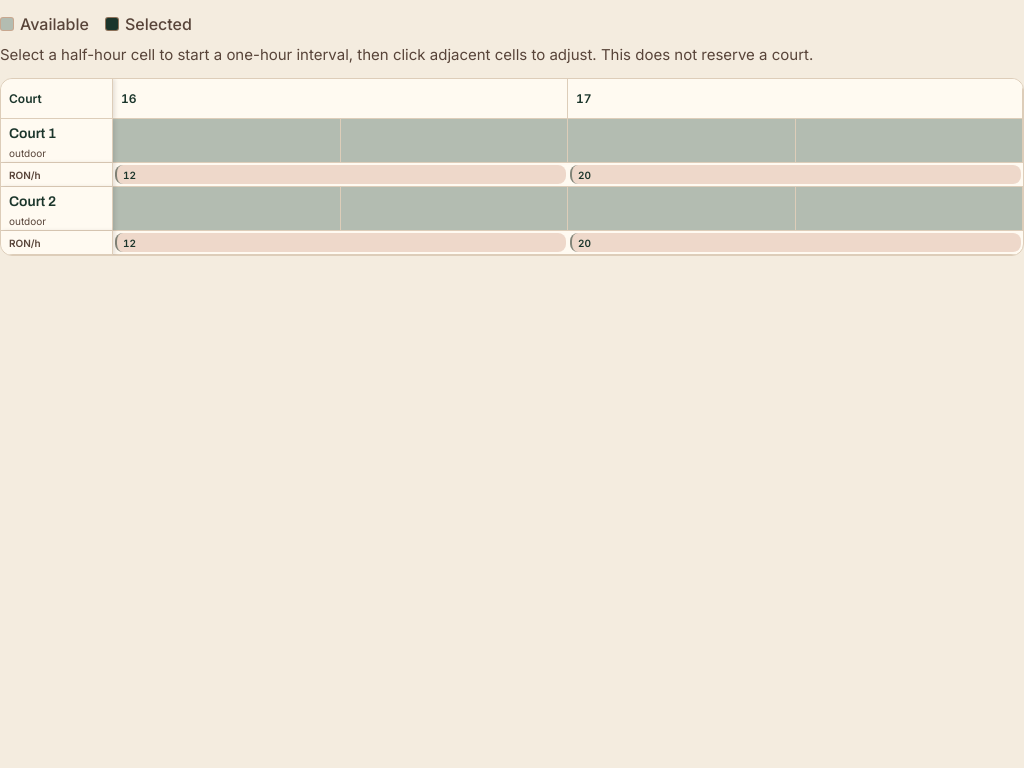
Test: disables unconfigured online payment while allowing an explicit Pay at club choice
Click the button named "Court 1 2026-10-01 16:00–16:30" at (227, 140), box [113,119,340,162]
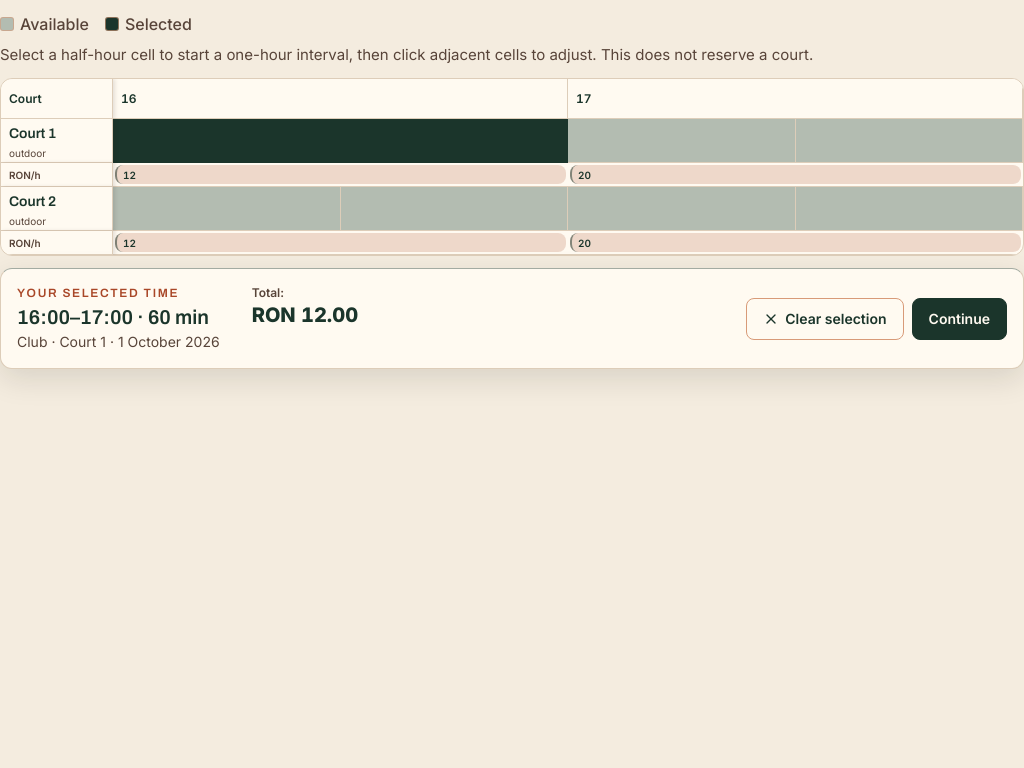
Click the button "Continue" at (959, 318), box [912,298,1007,340]
(page scrolled)
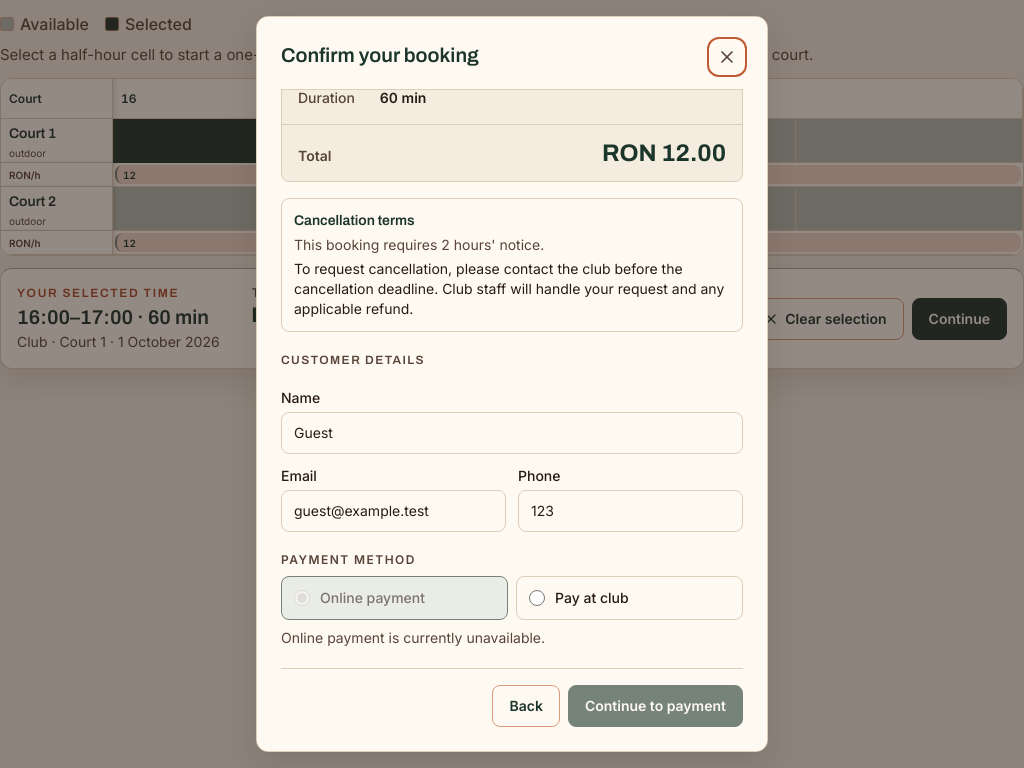
Check: the dialog is shown, box [256,16,768,752]
Check: the button "Continue to payment" is disabled, box [568,685,743,727]
Check: the text "Online payment is currently unavailable." is shown, box [281,629,545,646]
Click the radio button labelled "Pay at club" at (537, 598), box [529,590,545,606]
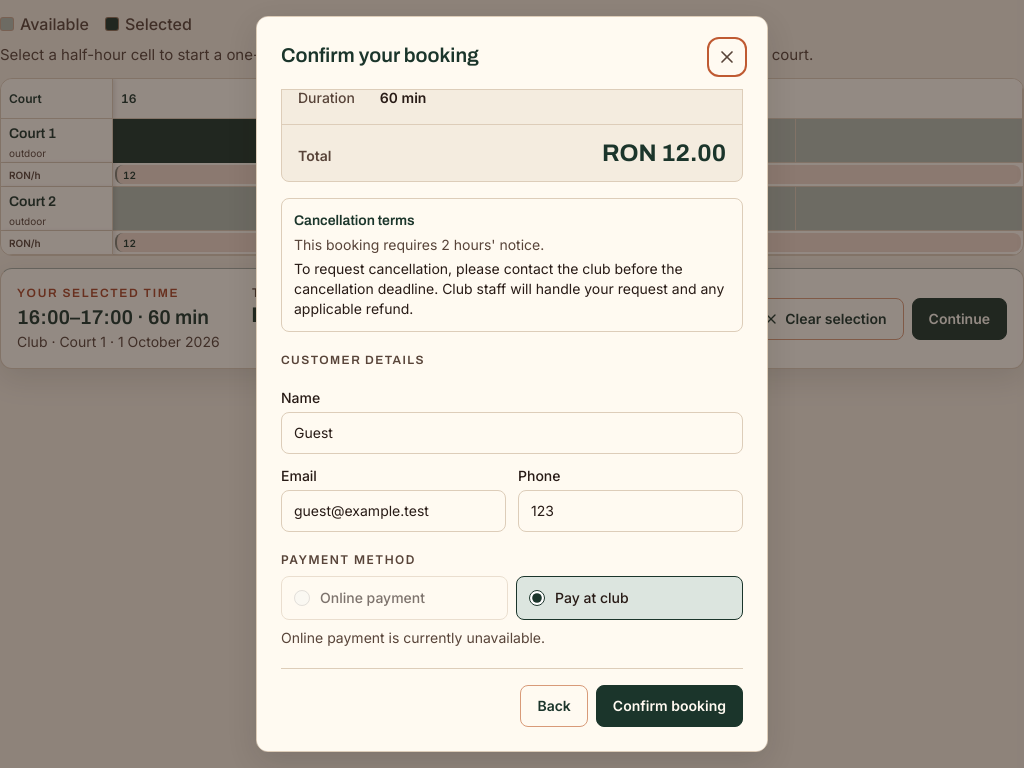
Click the button "Confirm booking" at (669, 706), box [596,685,743,727]
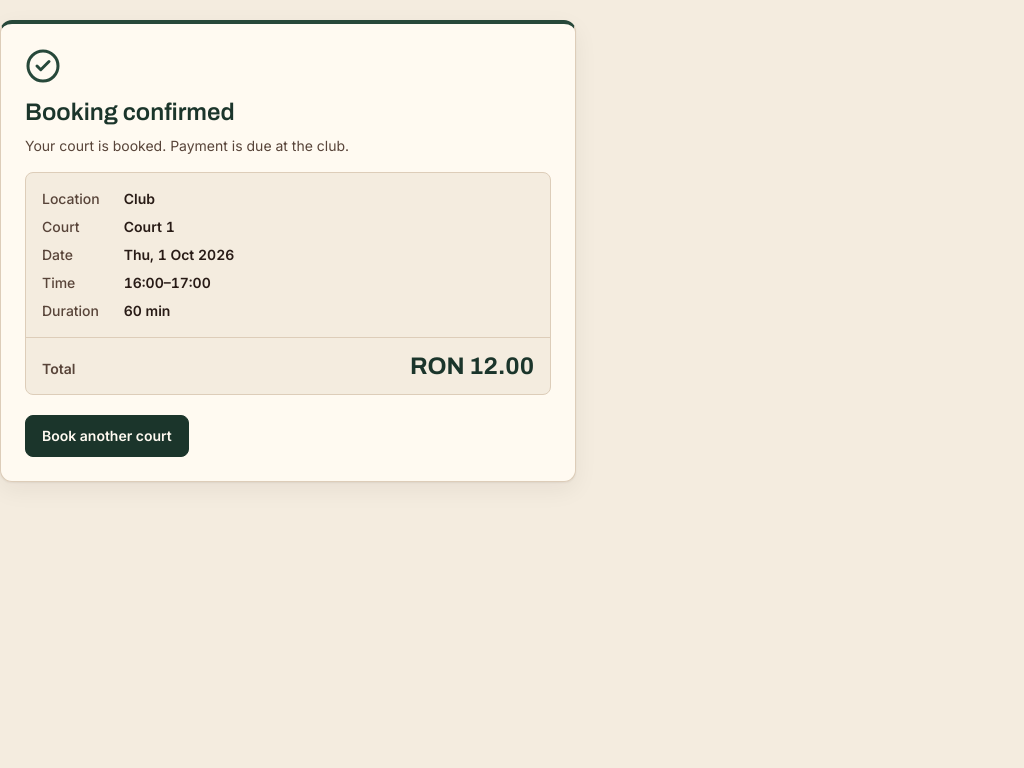
Check: the element "Booking confirmed" is shown, box [0,20,576,482]
